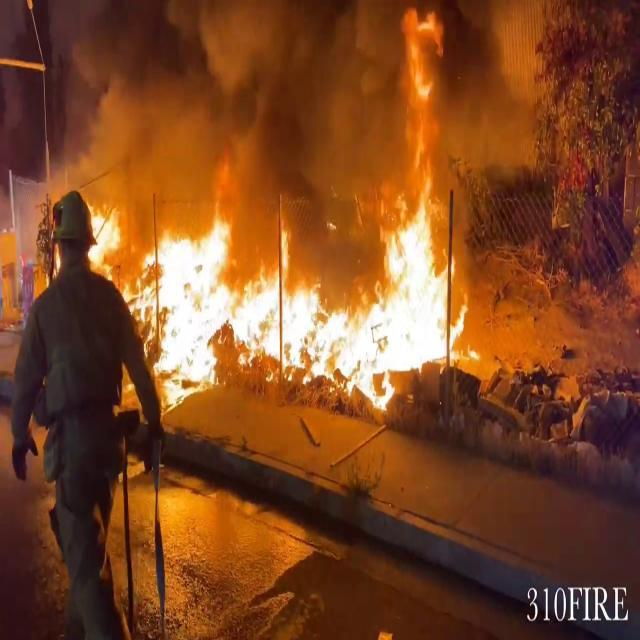Fire: (128, 75, 484, 412)
Smoke: (71, 0, 401, 199)
